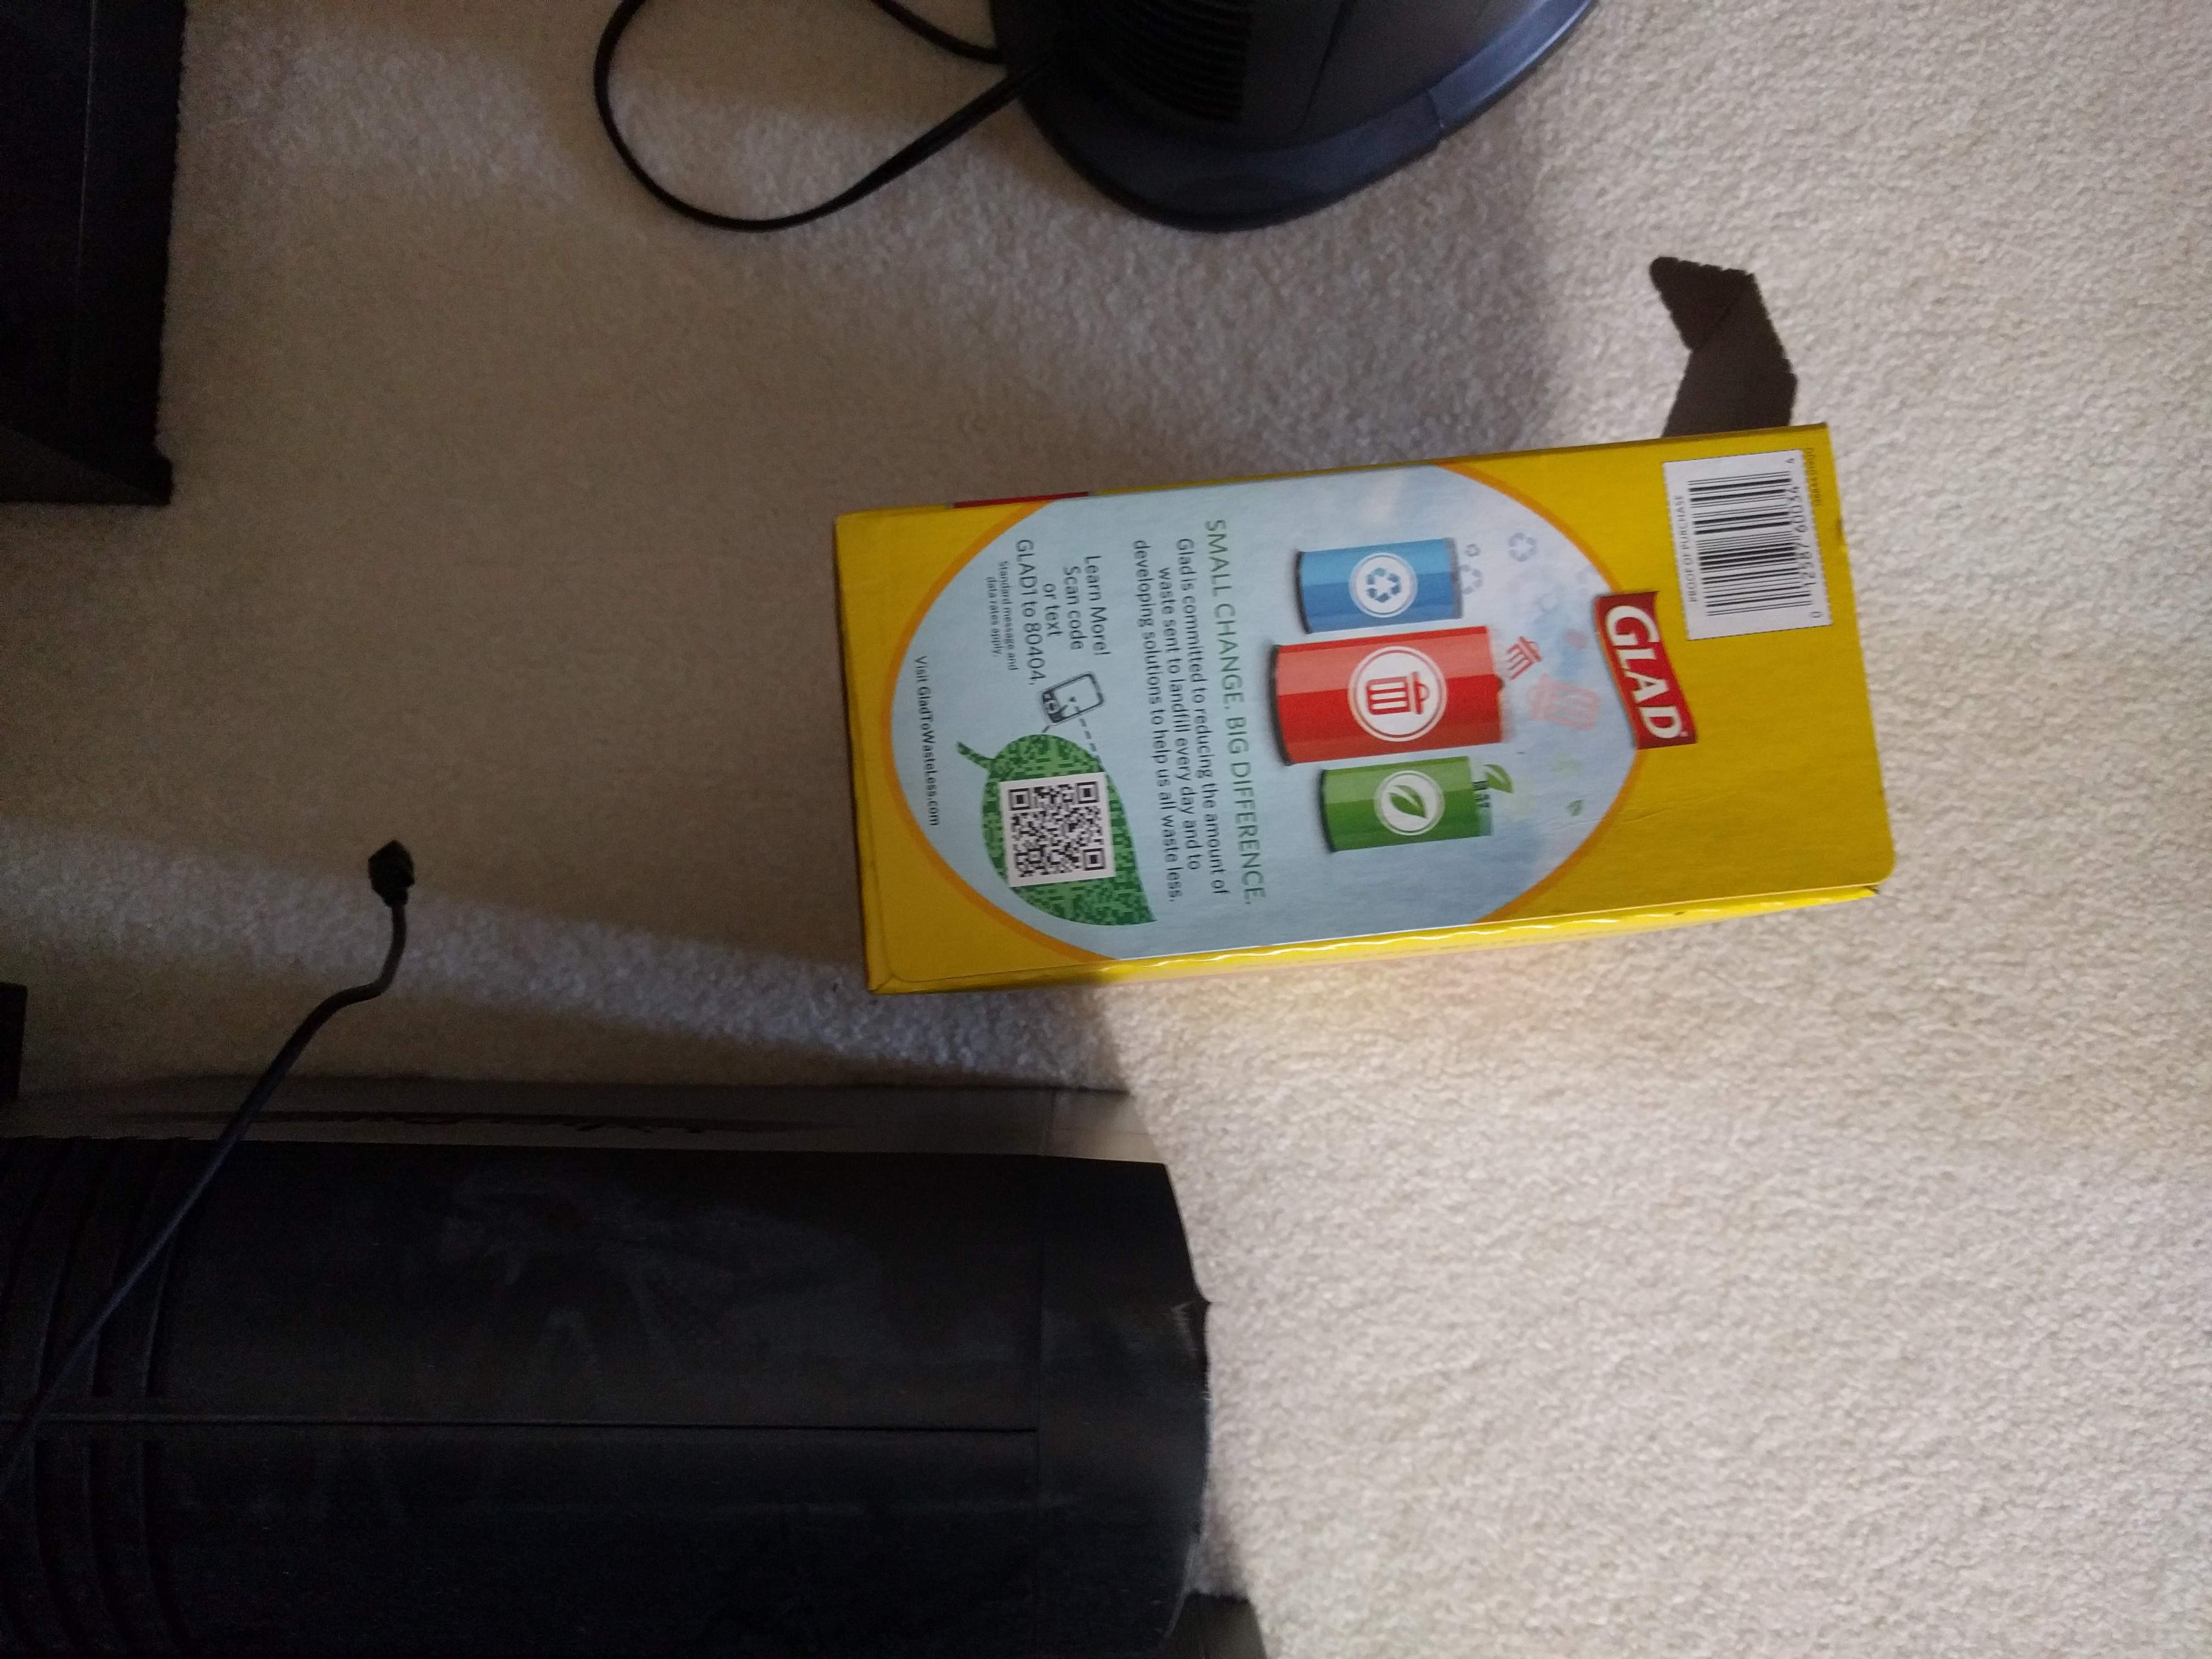QR_CODE: (984, 755, 1137, 925)
